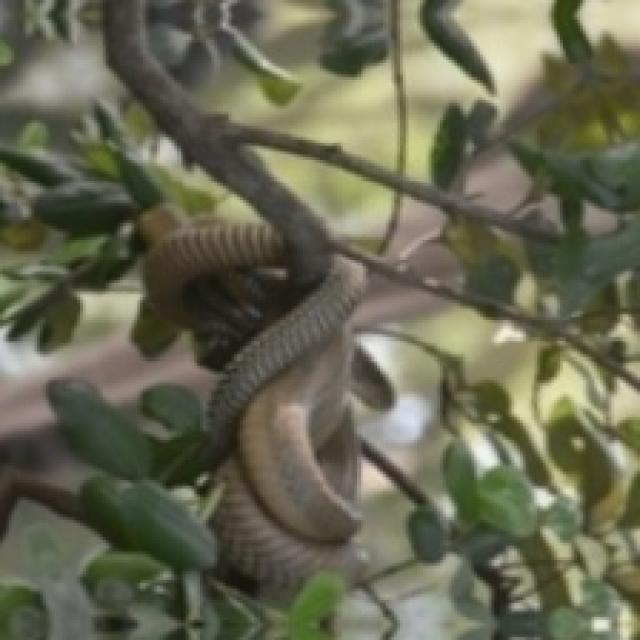king cobra: (209, 257, 363, 594), (149, 226, 277, 289)
